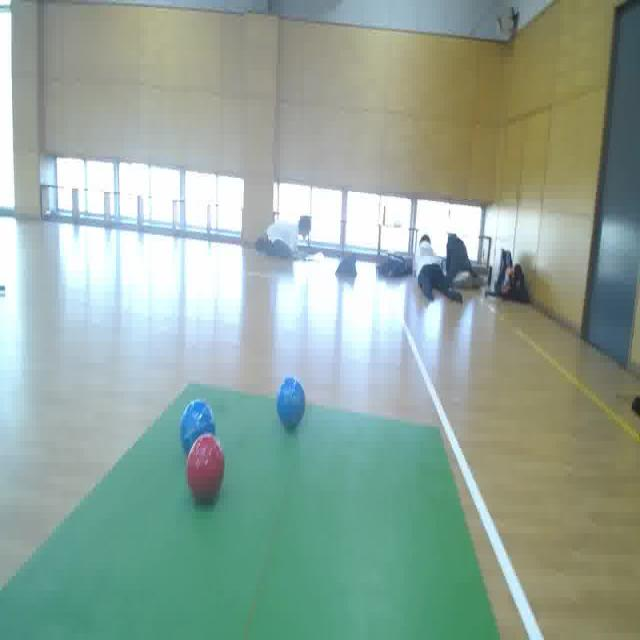blue_ball: (180, 398, 217, 461), (276, 374, 308, 435)
red_ball: (185, 432, 226, 508)
